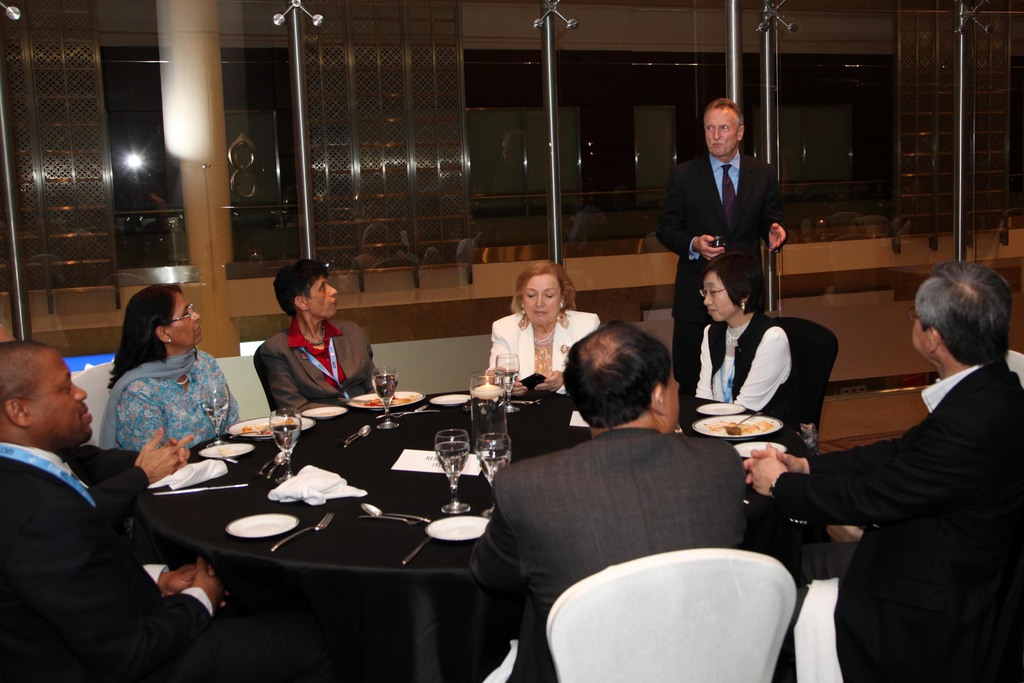Table: (149, 384, 795, 682)
